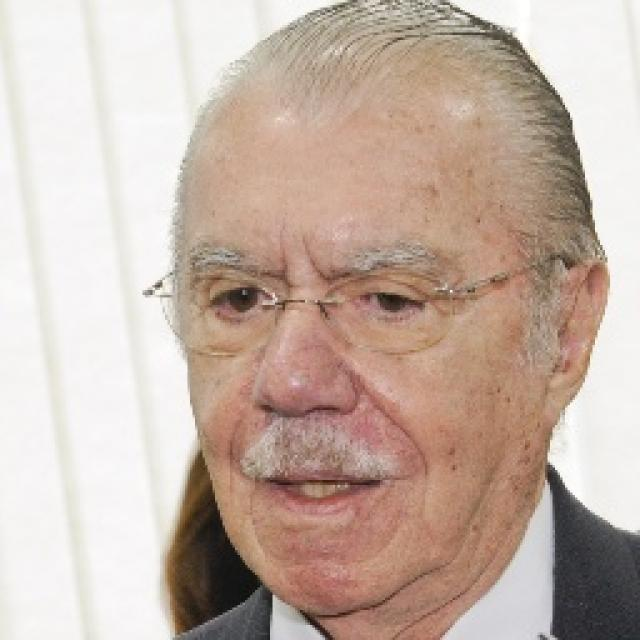earlobe: (541, 364, 579, 424)
eye: (356, 289, 429, 320), (209, 285, 277, 317)
nose: (255, 402, 364, 465)
wholeear: (540, 256, 612, 425)
